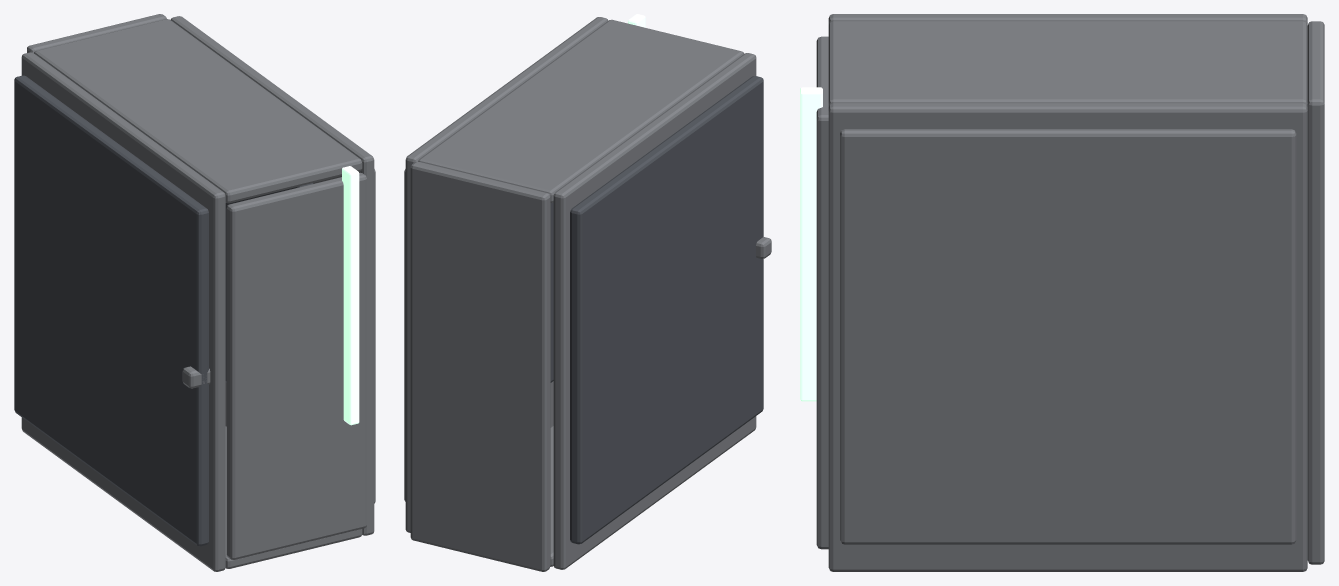
File: computer_case.glb
3 renders of one model, left to right at view 1: azimuth 30°, elevation 25°; view 2: azimuth 150°, elevation 25°; view 3: azimuth 270°, elevation 25°, orthographic. The views are drawn at different scales.
Parts seen in each view (by area): view 1: part_sidePanel__computer_case, pc_front, pc_body_top, pc_body_left, pc_body_right, power_led, pc_body_bottom, pc_body_back, sideL, mobo; view 2: part_sidePanel__computer_case, pc_body_back, pc_body_top, pc_body_left, pc_body_right, mobo, sideL, pc_body_bottom; view 3: sideL, pc_body_top, pc_body_right, pc_body_back, pc_front, power_led, pc_body_left.
Boxes of the visible parts, x1,y1,x2,y2 form: part_sidePanel__computer_case: [14, 75, 210, 546]; pc_front: [226, 172, 366, 559]; pc_body_top: [34, 19, 362, 203]; pc_body_left: [21, 52, 225, 571]; pc_body_right: [170, 16, 374, 535]; power_led: [342, 166, 359, 425]; pc_body_bottom: [225, 426, 362, 568]; pc_body_back: [27, 14, 166, 52]; sideL: [374, 169, 375, 503]; mobo: [225, 183, 313, 382]; part_sidePanel__computer_case: [570, 76, 771, 544]; pc_body_back: [410, 161, 550, 571]; pc_body_top: [418, 19, 743, 202]; pc_body_left: [553, 53, 756, 569]; pc_body_right: [405, 17, 608, 532]; mobo: [550, 202, 553, 382]; sideL: [404, 169, 405, 501]; pc_body_bottom: [550, 425, 553, 566]; sideL: [840, 129, 1296, 544]; pc_body_top: [828, 21, 1307, 106]; pc_body_right: [828, 103, 1307, 571]; pc_body_back: [1307, 21, 1324, 564]; pc_front: [816, 36, 828, 549]; power_led: [800, 87, 822, 401]; pc_body_left: [828, 14, 1307, 24].
Bounding box in the file's own units: 0.2325 × 0.45 × 0.46.
